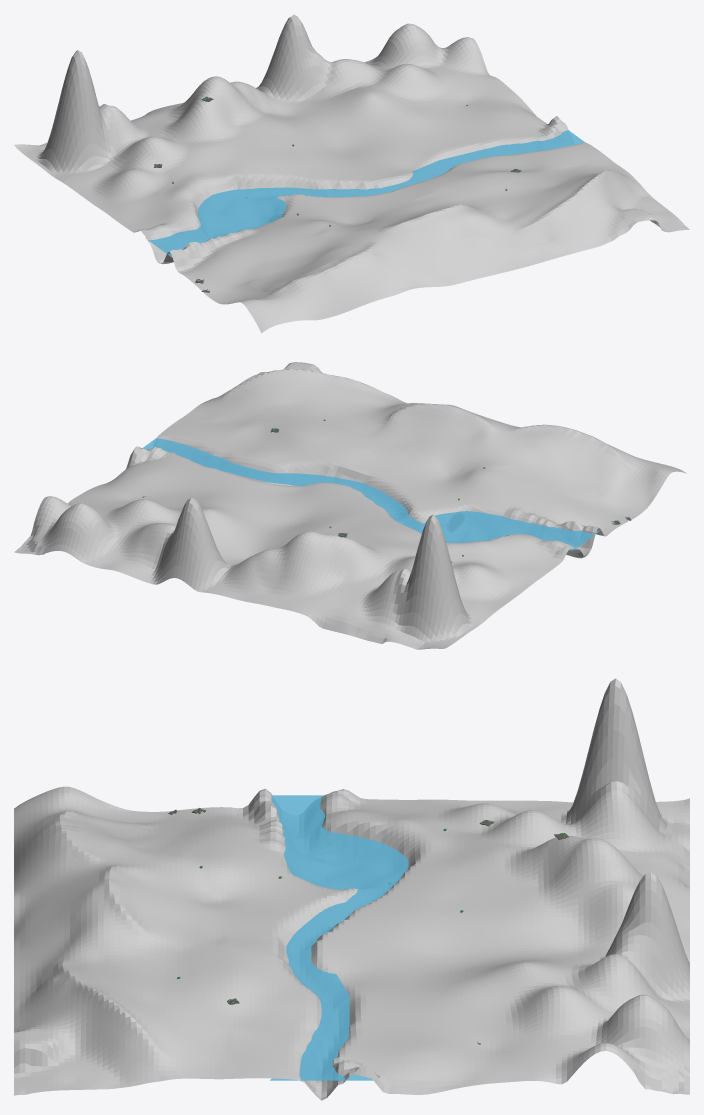
Rendered from map_with_ore_test.glb.
3 renders of one model, top to bottom at view 1: azimuth 30°, elevation 25°; view 2: azimuth 150°, elevation 25°; view 3: azimuth 270°, elevation 25°, orthographic. The views are drawn at different scales.
Parts seen in each view (by area): view 1: tearrain, water; view 2: tearrain, water; view 3: tearrain, water.
Boxes of the visible parts, <box> form: tearrain: <box>14,14,689,333</box>; water: <box>145,130,584,257</box>; tearrain: <box>14,362,686,649</box>; water: <box>129,438,599,550</box>; tearrain: <box>14,678,689,1100</box>; water: <box>270,795,408,1080</box>.
Size of the model in its own units: 501 by 135 by 500.
Materials: 6 (1 with a texture image).
